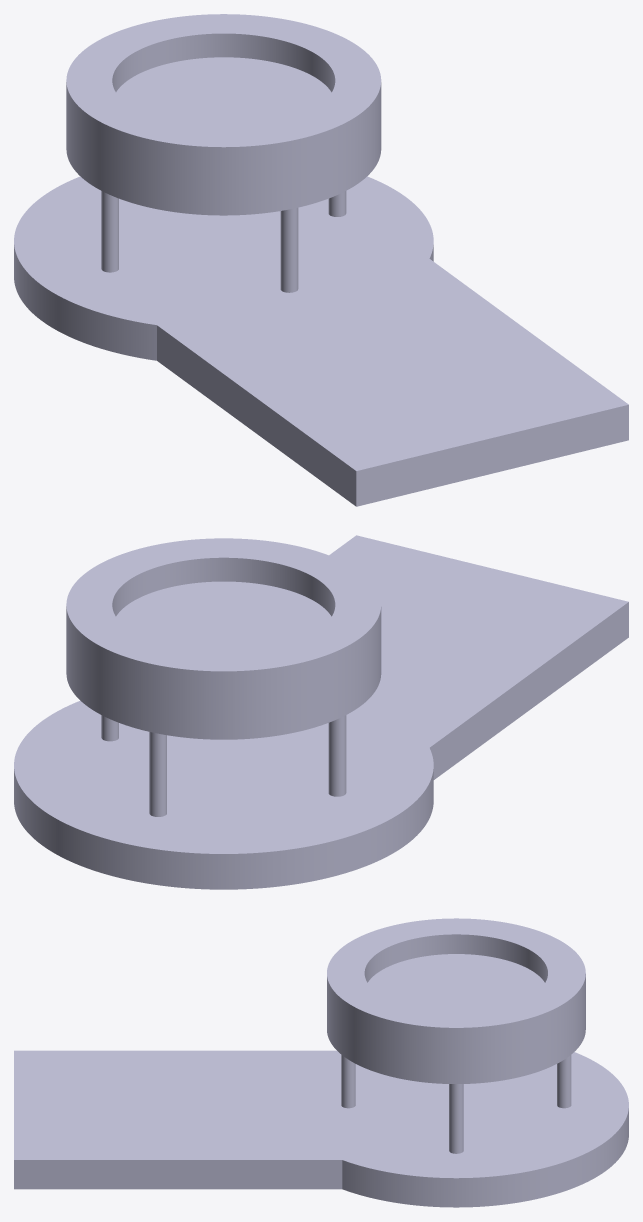
Rendered from Base_plate.dae.
3 views of the same model, one above another, from view 1: azimuth 30°, elevation 25°; view 2: azimuth 150°, elevation 25°; view 3: azimuth 270°, elevation 25° (orthographic). The views are drawn at different scales.
Visible parts, largest first — view 1: node0; view 2: node0; view 3: node0.
Part boxes in pixels (x1,y1,x2,y2): node0: (14, 14, 628, 506); node0: (14, 535, 628, 889); node0: (14, 918, 628, 1207).
Bounding box in the file's own units: 0.16 × 0.285 × 0.0825.
